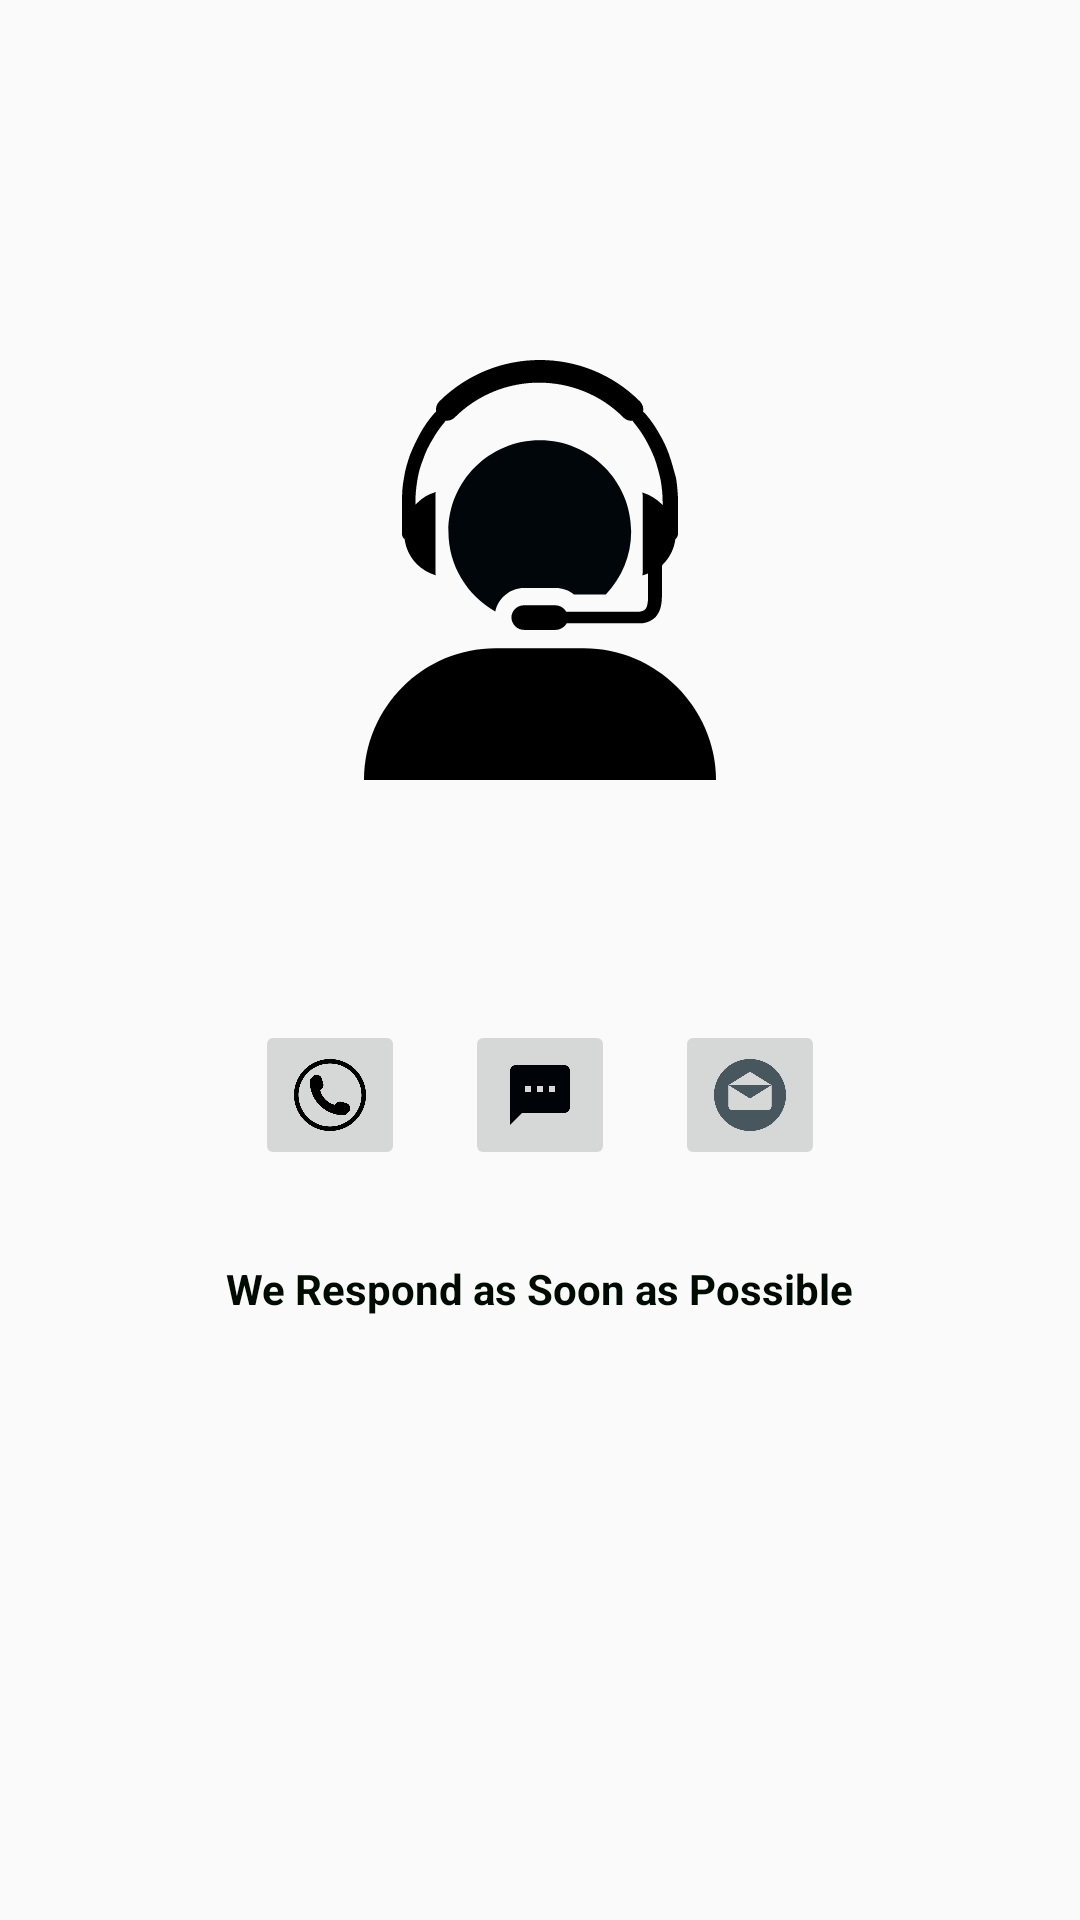

Where icons sit on this 1080 × 1920 app screen, as (x1, y1, x2, y2):
CALL: (267, 1038, 393, 1152)
EMAIL: (687, 1038, 813, 1152)
SMS: (477, 1038, 603, 1152)
